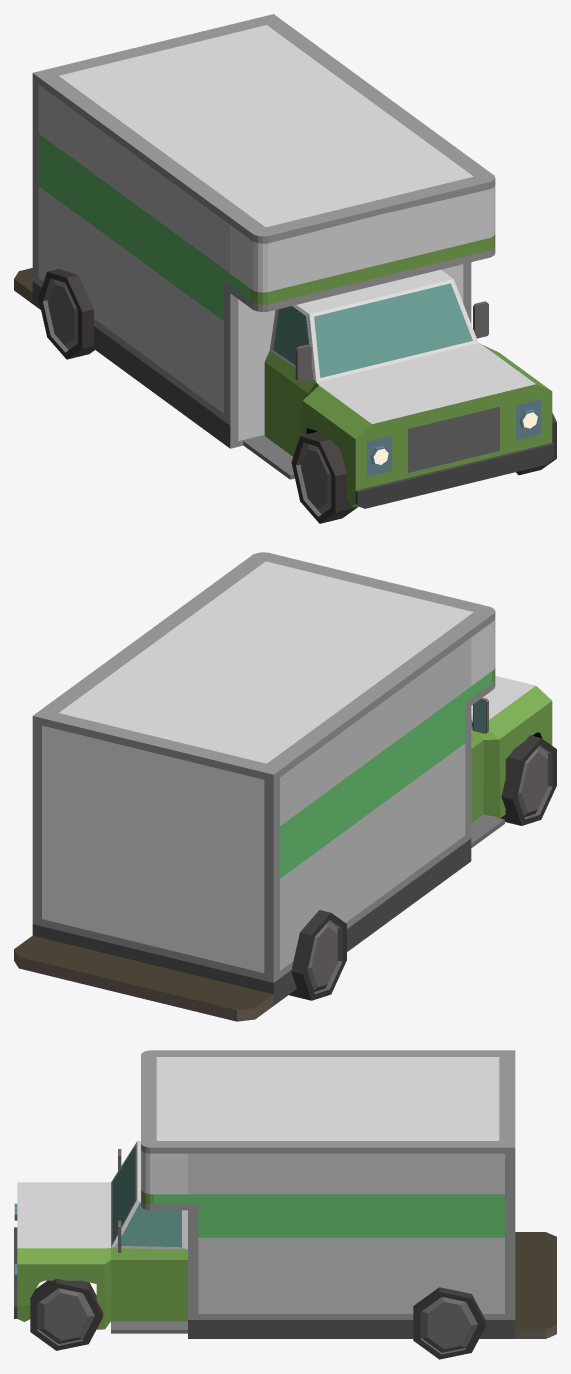
File: uhaul.fbx
3 renders of one model, top to bottom at view 1: azimuth 30°, elevation 25°; view 2: azimuth 150°, elevation 25°; view 3: azimuth 270°, elevation 25°, orthographic. The views are drawn at different scales.
Visible parts, largest first — view 1: Cube; view 2: Cube; view 3: Cube.
Part boxes in pixels (left/top/right/bottom): Cube: left=14, top=14, right=556, bottom=523; Cube: left=14, top=552, right=556, bottom=1021; Cube: left=14, top=1050, right=556, bottom=1359.
Size of the model in its own units: 269 by 243 by 578.
